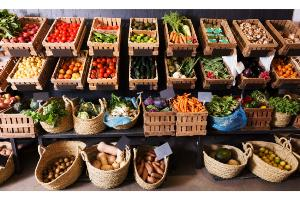tomato: (42, 16, 84, 44), (6, 15, 36, 49), (89, 50, 119, 82), (54, 52, 86, 82)
